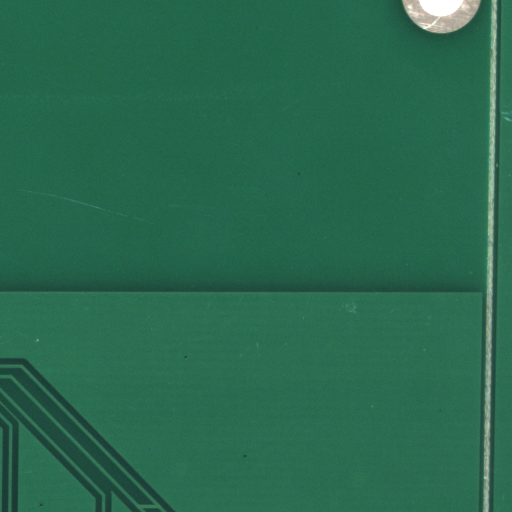Short: (149, 506, 172, 512)
